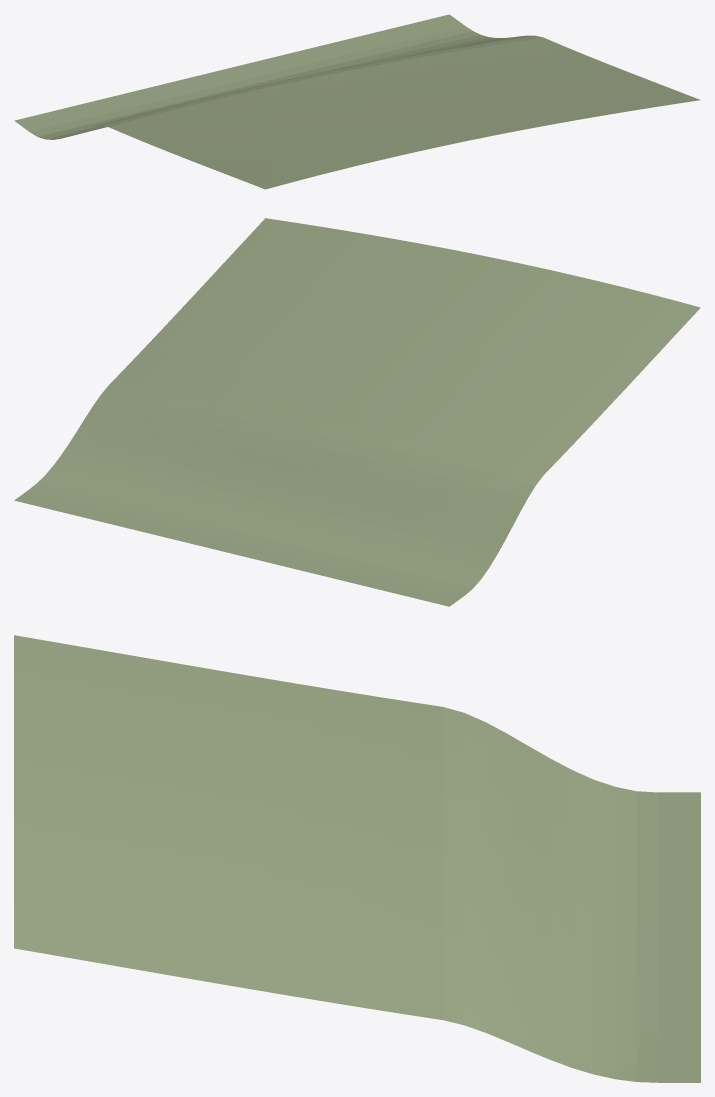
File: valley-2-13.glb
3 views of the same model, one above another, from view 1: azimuth 30°, elevation 25°; view 2: azimuth 150°, elevation 25°; view 3: azimuth 270°, elevation 25° (orthographic). The views are drawn at different scales.
Visible parts, largest first — view 1: valley-2-13; view 2: valley-2-13; view 3: valley-2-13.
Boxes of the visible parts, x1,y1,x2,y2 form: valley-2-13: (14,14,700,189); valley-2-13: (14,218,700,606); valley-2-13: (14,635,700,1082).
Size of the model in its own units: 256 by 65.47 by 256.
